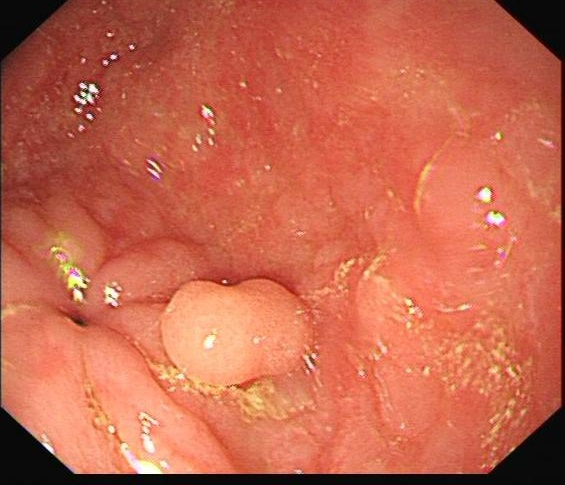Polyp: (150, 254, 335, 400)
